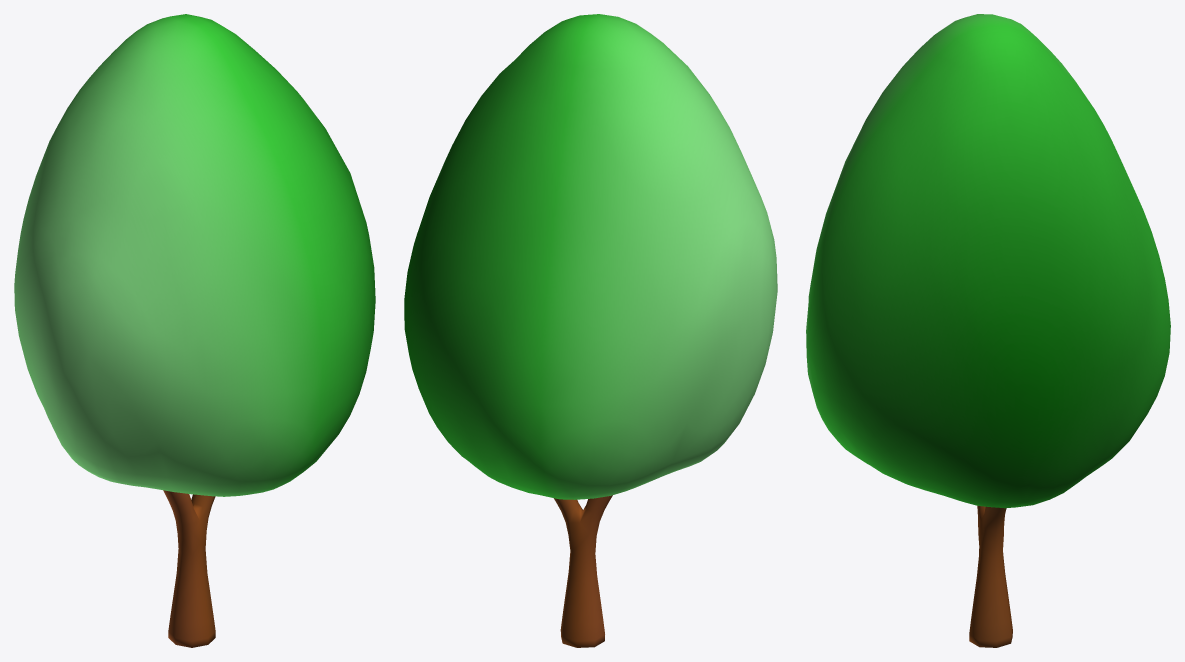
Rendered from Tree_LODO.glb.
3 views of the same model, side by side, from view 1: azimuth 30°, elevation 25°; view 2: azimuth 150°, elevation 25°; view 3: azimuth 270°, elevation 25° (orthographic).
Visible parts, largest first — view 1: Folage_mpoly.001, Trunk_lpoly; view 2: Folage_mpoly.001, Trunk_lpoly; view 3: Folage_mpoly.001, Trunk_lpoly.
Part boxes in pixels (x1,y1,x2,y2): Folage_mpoly.001: [14, 14, 375, 496]; Trunk_lpoly: [163, 490, 215, 647]; Folage_mpoly.001: [404, 14, 777, 499]; Trunk_lpoly: [554, 495, 612, 647]; Folage_mpoly.001: [806, 14, 1170, 508]; Trunk_lpoly: [969, 506, 1012, 647].
Size of the model in its own units: 7.57 by 13.84 by 7.45.
Materials: 2 (2 with a texture image).
